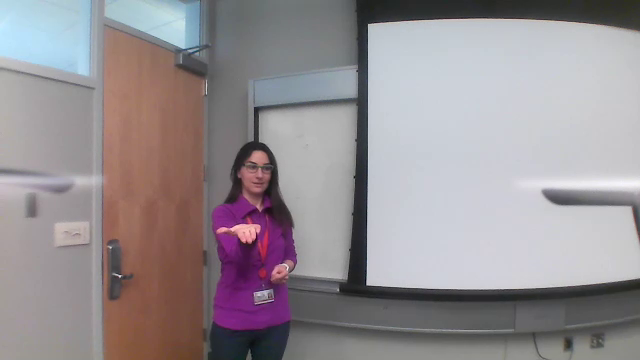land: (213, 219, 264, 248)
